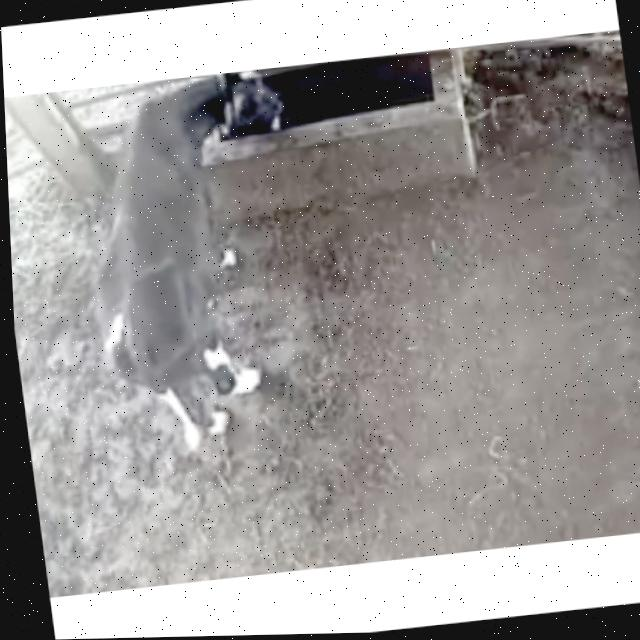drink: (95, 65, 300, 199)
